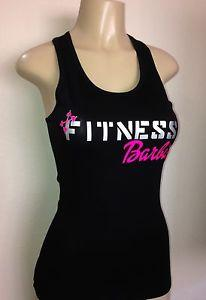C_tank top: (32, 33, 181, 300)
